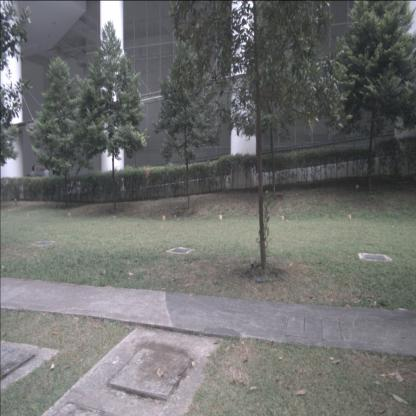human-pedestrian-adult: (44, 164, 50, 194), (30, 166, 36, 194)
